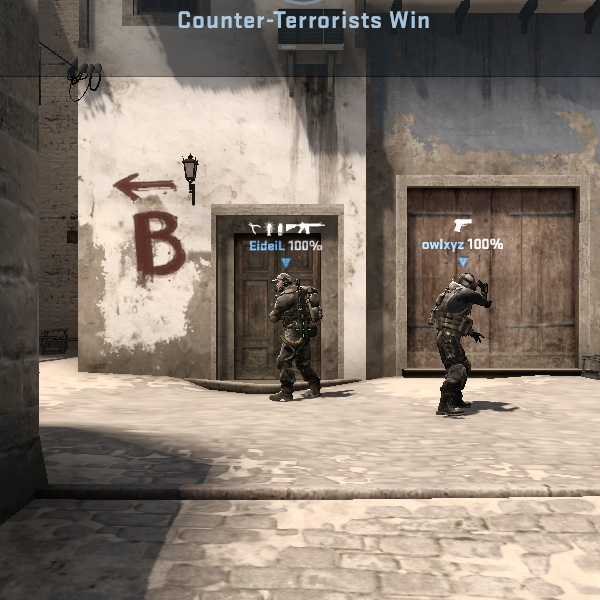ct_body: (257, 266, 332, 401), (428, 270, 495, 419)
ct_head: (268, 268, 299, 297), (454, 267, 481, 294)
